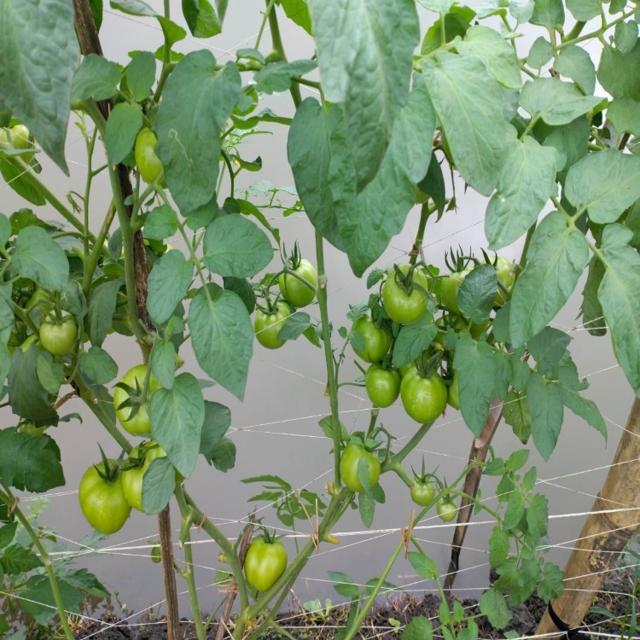tomato: (112, 363, 170, 432), (123, 443, 177, 514), (82, 462, 132, 535), (399, 359, 446, 428), (242, 531, 296, 588), (337, 437, 389, 496), (384, 262, 429, 321), (250, 297, 296, 350), (274, 253, 316, 309), (136, 124, 171, 186), (476, 248, 514, 302), (351, 317, 392, 360), (44, 311, 80, 359), (361, 364, 399, 408), (442, 262, 475, 309), (1, 118, 31, 159), (17, 325, 43, 355), (411, 478, 435, 510), (440, 495, 461, 523), (451, 376, 466, 409)
